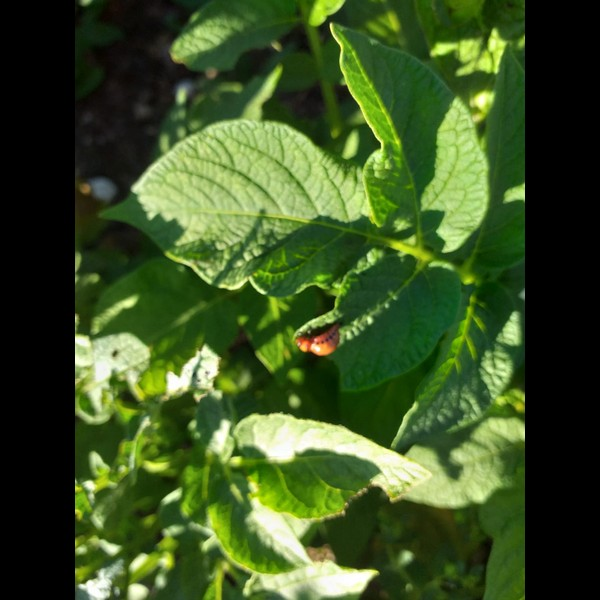hrosc: (294, 320, 344, 357)
